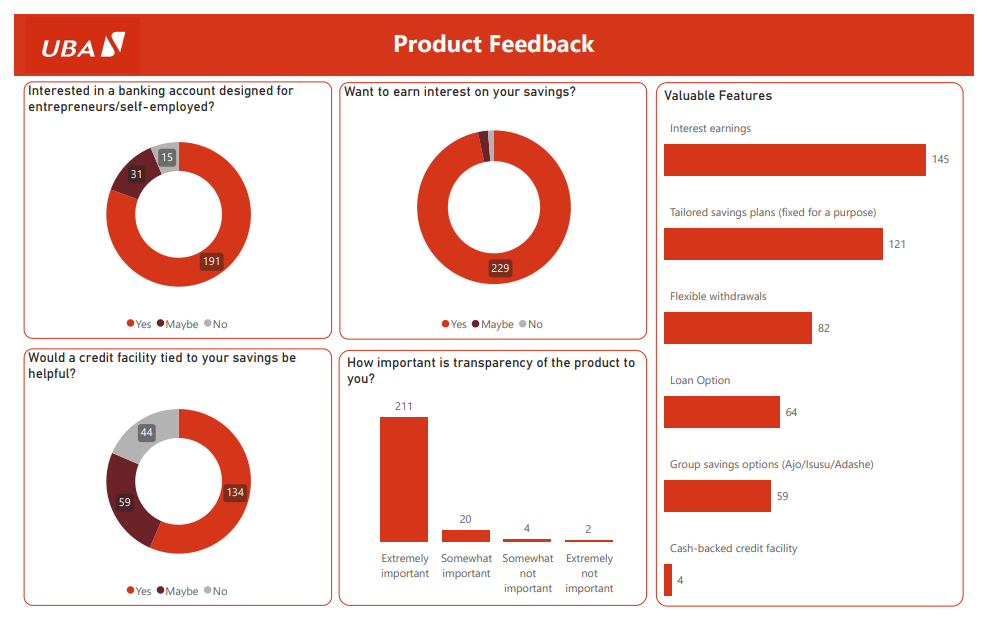

Layout of this report page (visuals, bound fields, positions):
{"tool":"powerbi","page":{"name":"Product Feedback","canvas":[1280,800],"ordinal":2},"visuals":[{"type":"shape","box":[0,0,1280,720],"z":0},{"type":"shape","box":[0,0,1280,82.8],"z":1000},{"type":"image","box":[12.3,0,159.4,82.8],"z":2000},{"type":"shape","box":[0,82.8,1280,717.4],"z":3000},{"type":"donutChart","title":"Interested in a banking account designed for entrepreneurs/self-employed?","fields":{"Category":["Survey.Would you be interested in a banking account designed for entrepreneurs or self-employed Individuals?"],"Y":["CountNonNull(Survey.Would you be interested in a banking account designed for entrepreneurs or self-employed Individuals"]},"box":[12.7,90.5,411.1,342.9],"z":4000},{"type":"textbox","box":[389.4,0,501.3,82.8],"z":5000},{"type":"clusteredBarChart","title":"Valuable Features","fields":{"Category":["Valuable features.Which of the following features would be most valuable to you (Select all that apply)"],"Y":["Survey.Label","CountNonNull(Valuable features.Which of the following features would be most valuable to you (Select all that apply))"]},"box":[856.2,90.6,410.1,699],"z":6000},{"type":"clusteredColumnChart","title":"How important is transparency of the product to you?","fields":{"Category":["Survey.How important is transparency of the product to you?"],"Y":["CountNonNull(Survey.How important is transparency of the product to you?)"]},"box":[433.3,447.6,411.1,341.3],"z":7000},{"type":"donutChart","title":"Would a credit facility tied to your savings be helpful?","fields":{"Category":["Survey.Would a credit facility tied to your savings be helpful? (e.g., mentors accessing up to 50% of apprentice savings"],"Y":["CountNonNull(Survey.Would a credit facility tied to your savings be helpful? (e.g., mentors accessing up to 50% of appre"]},"box":[12.7,446,411.1,342.9],"z":8000},{"type":"donutChart","title":"Want to earn interest on your savings?","fields":{"Category":["Survey.Would you be interested in earning interest on your savings?"],"Y":["CountNonNull(Survey.Would you be interested in earning interest on your savings?)"]},"box":[434.1,90.6,410.1,343.5],"z":9000}]}

Visuals, with their boxes in screenshot pixels (x1, y1, x2, y2), scaled from the page's 1280x800 canvas onto the 987x625 screenshot:
shape: (left=0, top=0, right=986, bottom=562)
shape: (left=0, top=0, right=986, bottom=65)
image: (left=9, top=0, right=132, bottom=65)
shape: (left=0, top=65, right=986, bottom=624)
"Interested in a banking account designed for entrepreneurs/self-employed?" donutChart: (left=10, top=71, right=327, bottom=339)
textbox: (left=300, top=0, right=687, bottom=65)
"Valuable Features" clusteredBarChart: (left=660, top=71, right=976, bottom=617)
"How important is transparency of the product to you?" clusteredColumnChart: (left=334, top=350, right=651, bottom=616)
"Would a credit facility tied to your savings be helpful?" donutChart: (left=10, top=348, right=327, bottom=616)
"Want to earn interest on your savings?" donutChart: (left=335, top=71, right=651, bottom=339)
